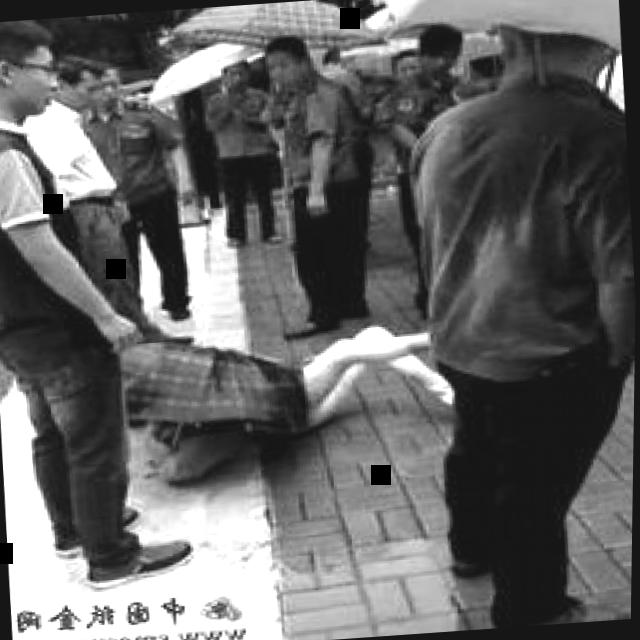Fall-Detected: (115, 285, 454, 499)
